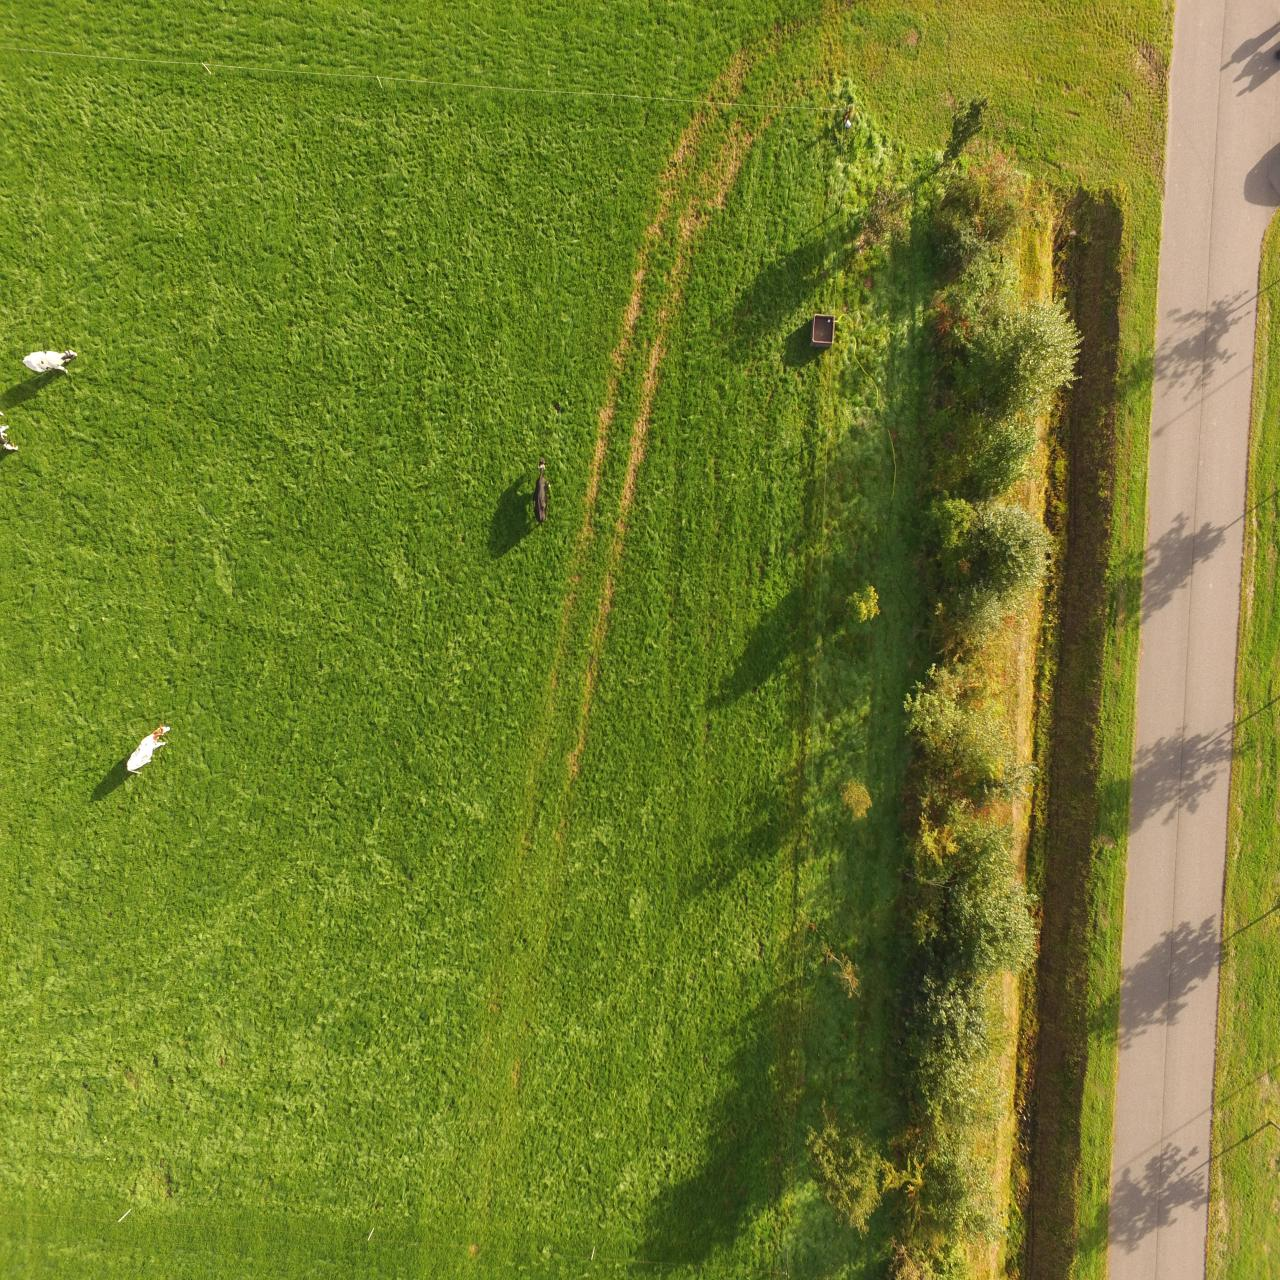cow: (123, 721, 172, 775), (21, 347, 81, 374), (530, 454, 552, 524)
